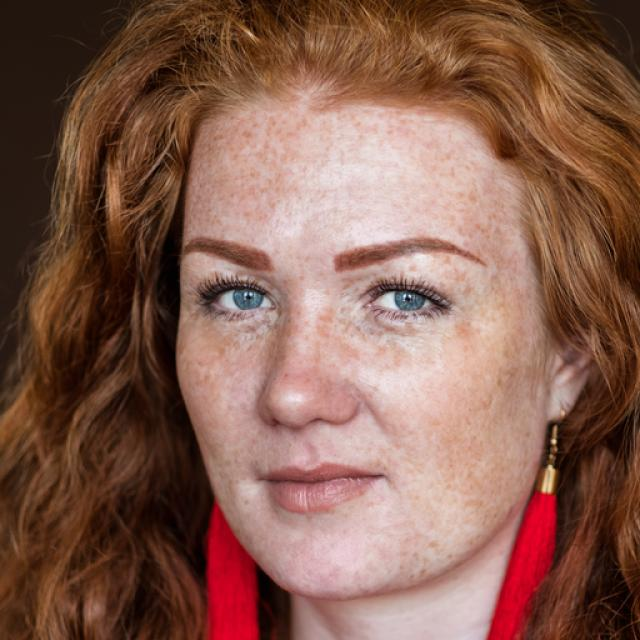Pigmentation: (323, 109, 541, 414), (180, 102, 315, 242), (316, 305, 416, 381), (339, 252, 478, 303), (454, 317, 483, 355)
